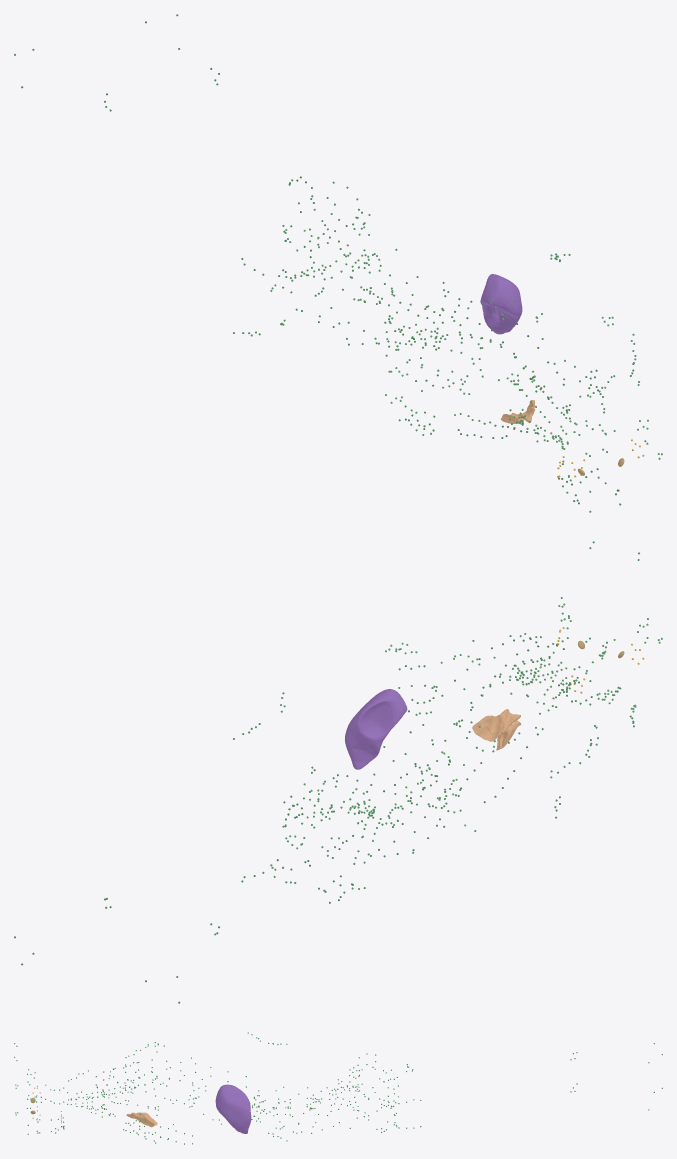
The picture shows the model from 3 angles, top to bottom: view 1: azimuth 30°, elevation 25°; view 2: azimuth 150°, elevation 25°; view 3: azimuth 270°, elevation 25°; orthographic projection. The views are drawn at different scales.
Visible parts, largest first — view 1: 脾; view 2: 脾, 胸腺左叶; view 3: 脾.
Part boxes in pixels (x1,y1,x2,y2): 脾: (480,274,522,334); 脾: (345,689,407,769); 胸腺左叶: (472,709,520,741); 脾: (215,1084,251,1133).
Size of the model in its own units: 0.3546 by 0.1539 by 1.
